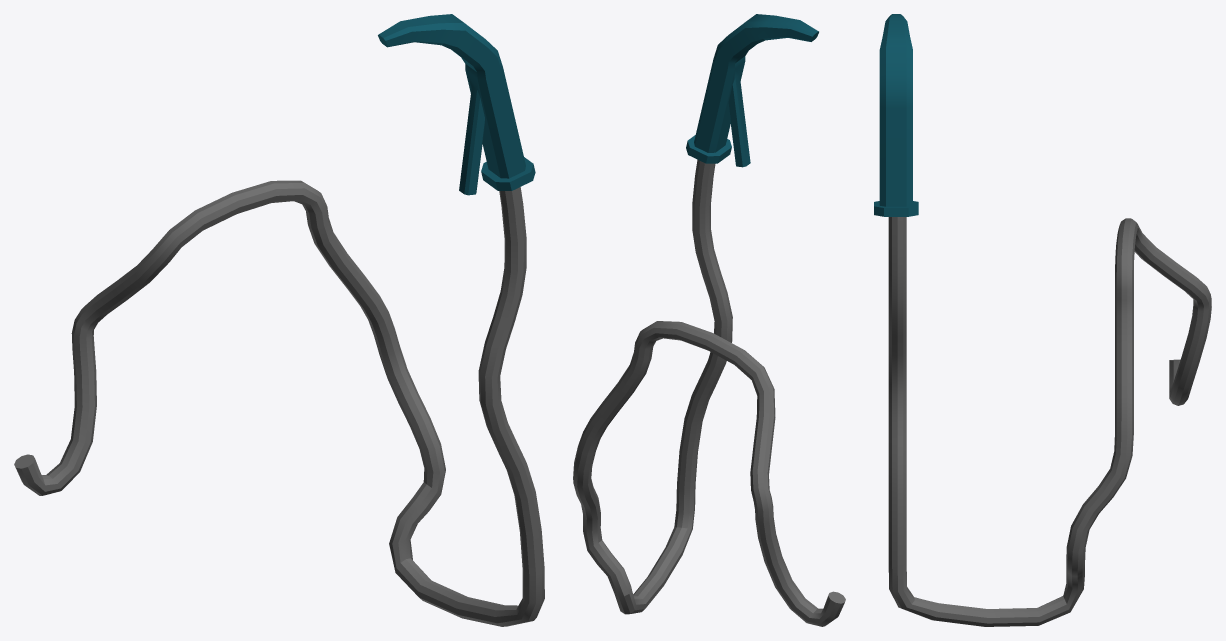
Rendered from PumpHandle.fbx.
The picture shows the model from 3 angles, left to right: view 1: azimuth 30°, elevation 25°; view 2: azimuth 150°, elevation 25°; view 3: azimuth 270°, elevation 25°; orthographic projection. The views are drawn at different scales.
Parts seen in each view (by area): view 1: curve2; view 2: curve2; view 3: curve2.
Boxes of the visible parts, left/top/right/bottom form: curve2: left=14, top=14, right=544, bottom=626; curve2: left=573, top=14, right=845, bottom=626; curve2: left=874, top=14, right=1211, bottom=626.
Size of the model in its own units: 2.66 by 4.58 by 2.49.
